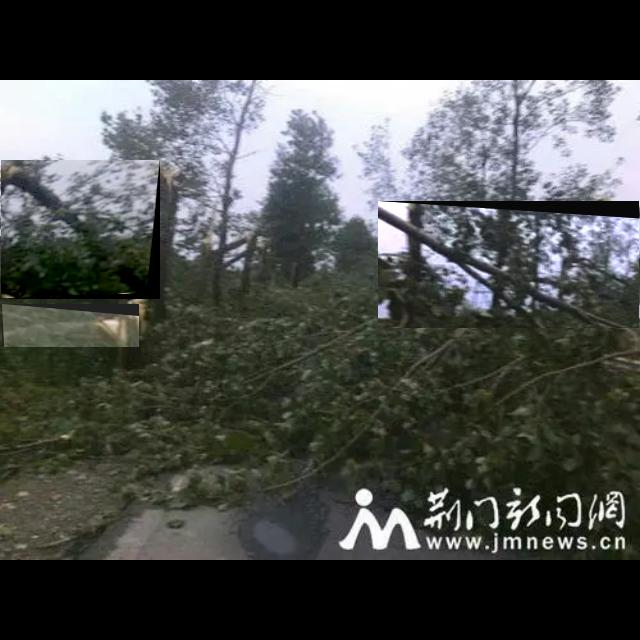Fallen Tree: (378, 201, 640, 329), (1, 160, 161, 300), (2, 304, 140, 348)
